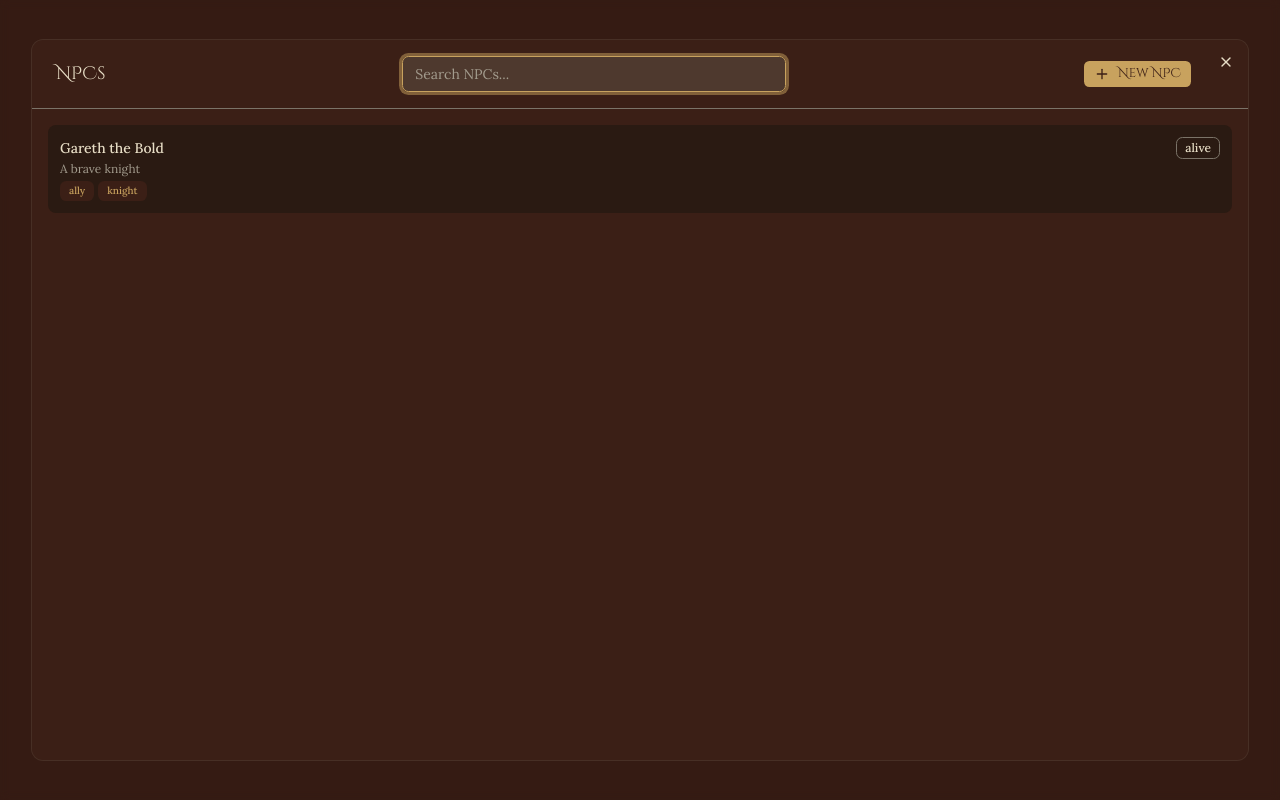
Test case: NpcModal › NPC Detail - Tabs › switches to History tab and shows events
The width and height of the screenshot is (1280, 800).
Click the text "Gareth the Bold" at coordinates (112, 148), box [60,138,164,158]
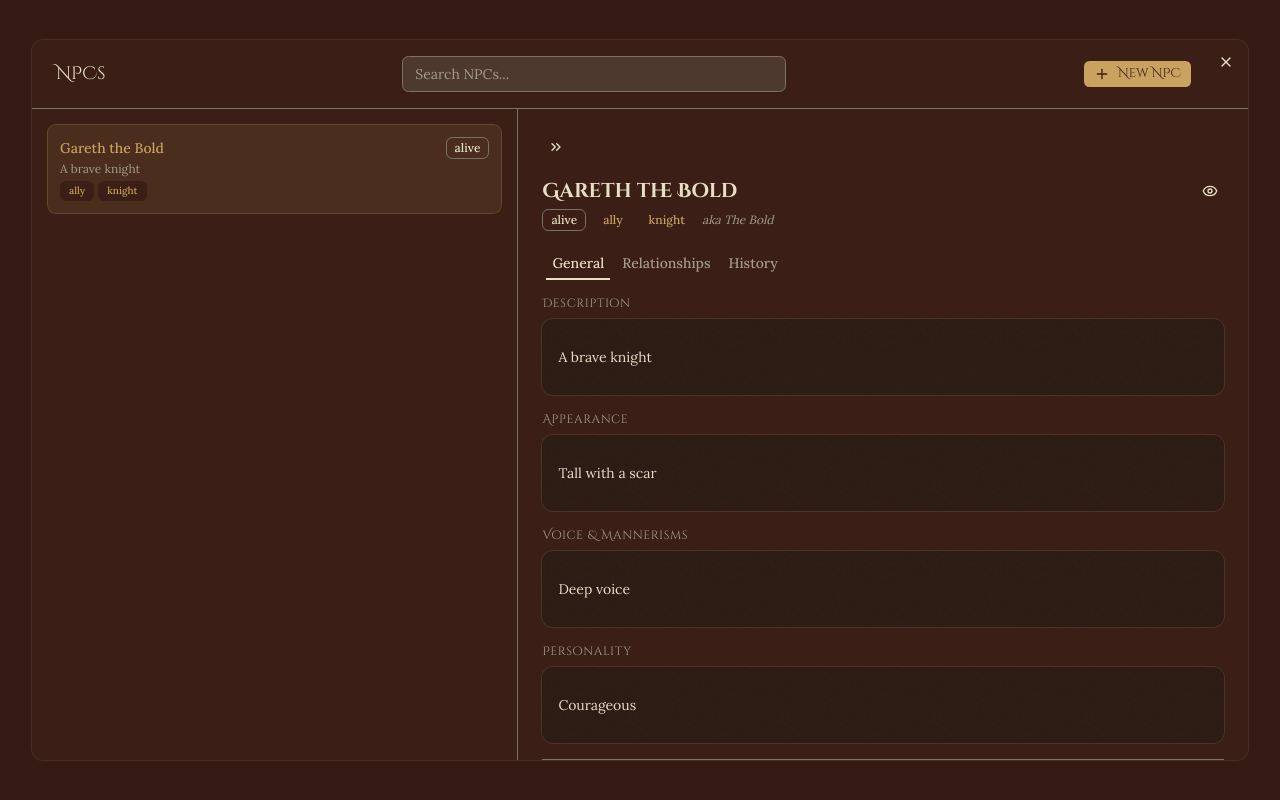
Now the tab "History" is shown
Click the tab "History" at coordinates (753, 263), box [722,250,785,276]
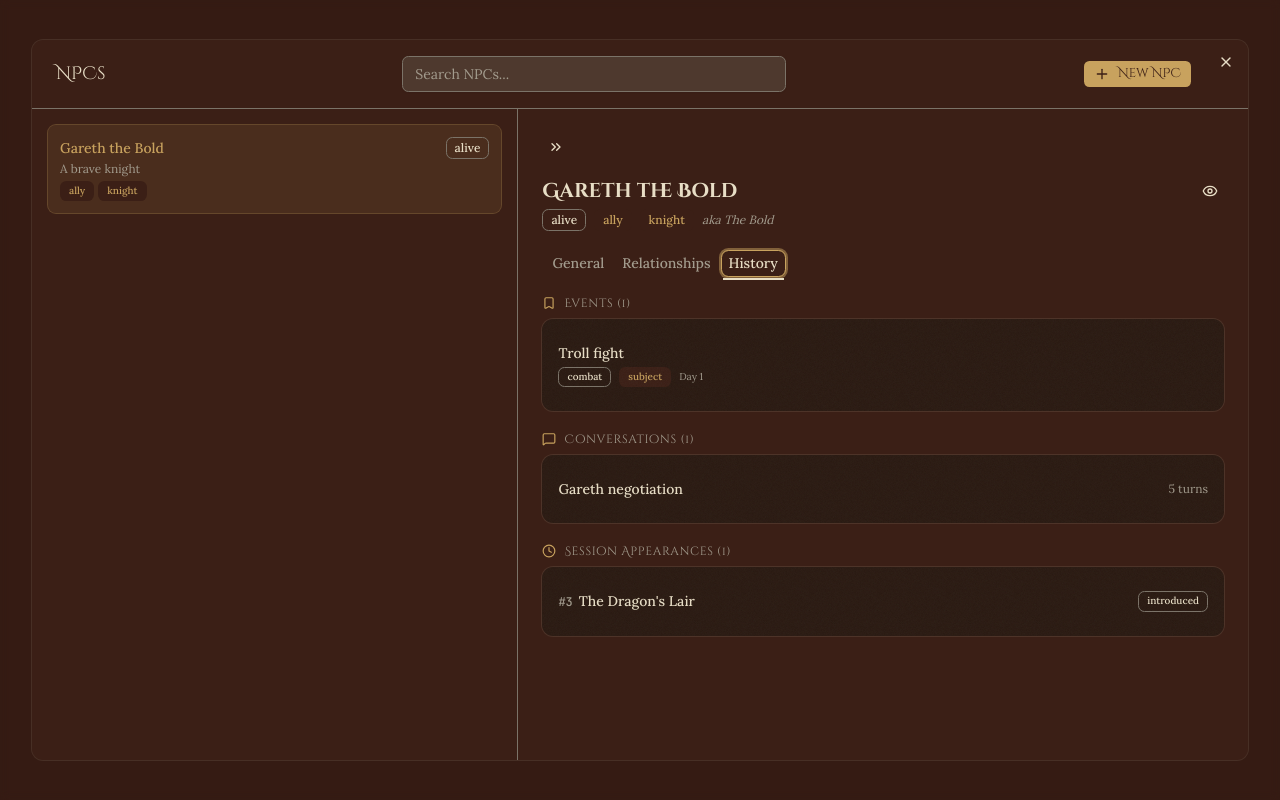
Now the text "Troll fight" is shown, box [558,344,624,362]
